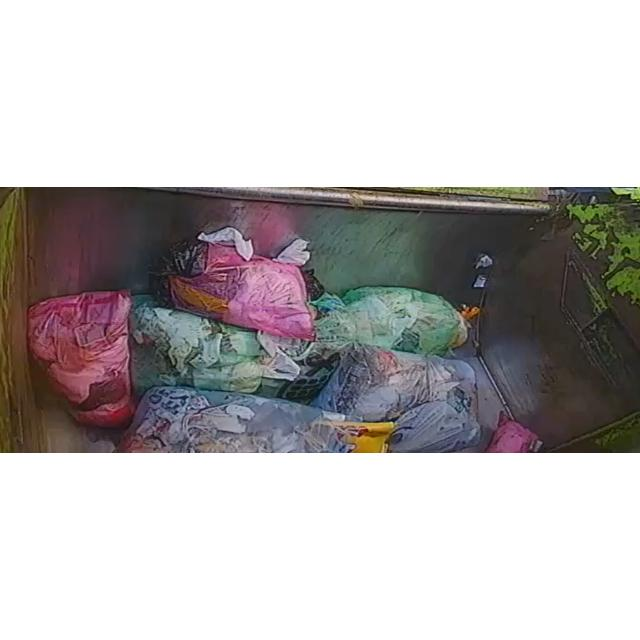general_trashbag: (130, 296, 266, 396), (316, 287, 468, 355), (254, 332, 348, 404)
other_trashbag: (154, 227, 324, 340), (120, 387, 394, 453), (28, 291, 135, 428), (312, 344, 459, 421), (389, 361, 481, 453)
